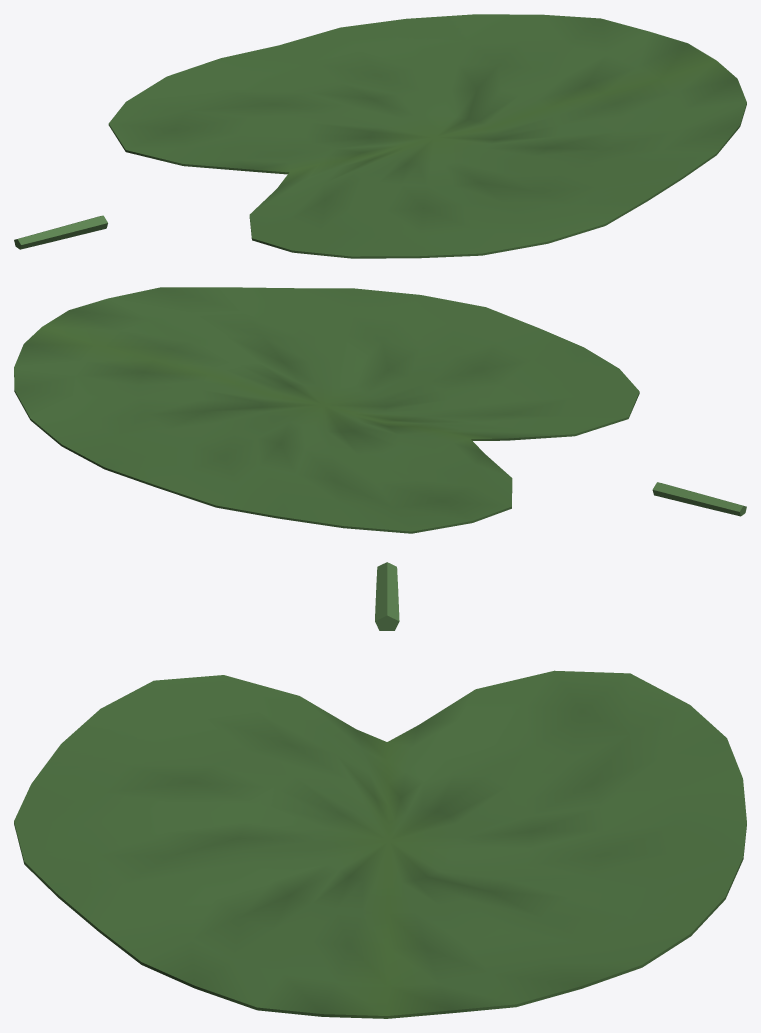
The model's file is mirewort.glb.
3 renders of one model, top to bottom at view 1: azimuth 30°, elevation 25°; view 2: azimuth 150°, elevation 25°; view 3: azimuth 270°, elevation 25°, orthographic. The views are drawn at different scales.
Parts seen in each view (by area): view 1: mirewort; view 2: mirewort; view 3: mirewort.
Boxes of the visible parts, left/top/right/bottom form: mirewort: left=14, top=14, right=746, bottom=258; mirewort: left=14, top=287, right=746, bottom=533; mirewort: left=14, top=562, right=746, bottom=1018.
Bounding box in the file's own units: 0.12 × 0.003 × 0.08.
